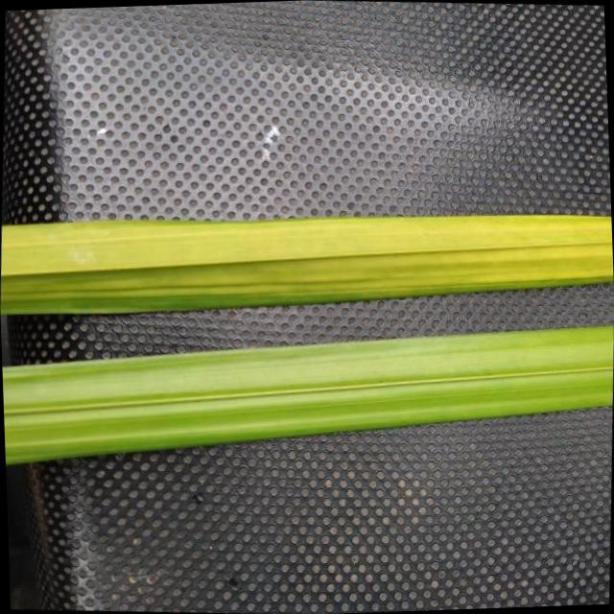nitrogen: (0, 324, 614, 464), (0, 198, 614, 320)
